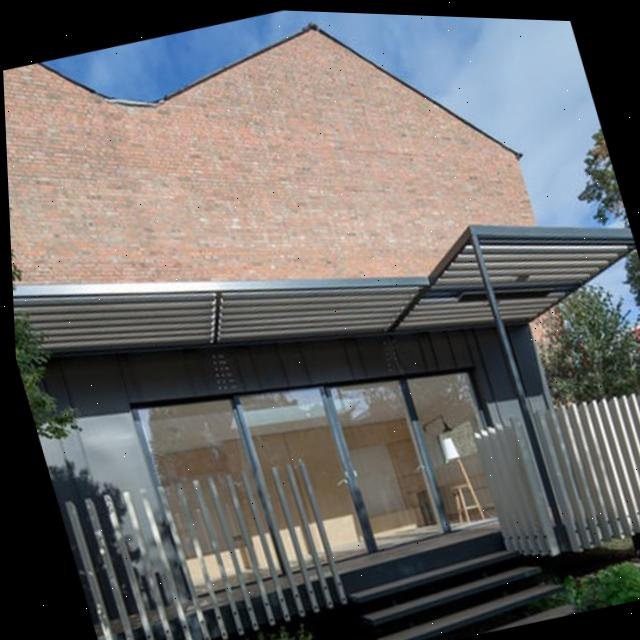building: (0, 0, 628, 640)
